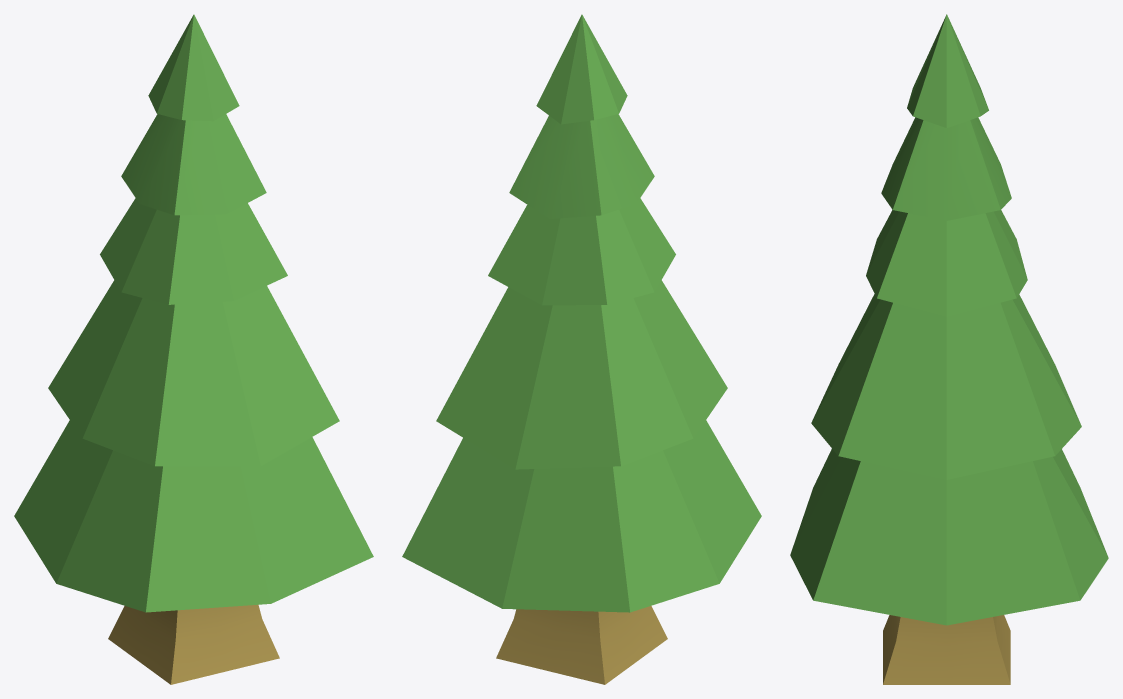
The model's file is tree_6.fbx.
3 renders of one model, left to right at view 1: azimuth 30°, elevation 25°; view 2: azimuth 150°, elevation 25°; view 3: azimuth 270°, elevation 25°, orthographic.
Visible parts, largest first — view 1: Trees:Evergreen_Trees:pCube243; view 2: Trees:Evergreen_Trees:pCube243; view 3: Trees:Evergreen_Trees:pCube243.
Boxes of the visible parts, <box> form: Trees:Evergreen_Trees:pCube243: <box>14,14,373,684</box>; Trees:Evergreen_Trees:pCube243: <box>402,14,761,684</box>; Trees:Evergreen_Trees:pCube243: <box>790,14,1108,684</box>.
Size of the model in its own units: 94.5 by 213 by 95.66.
